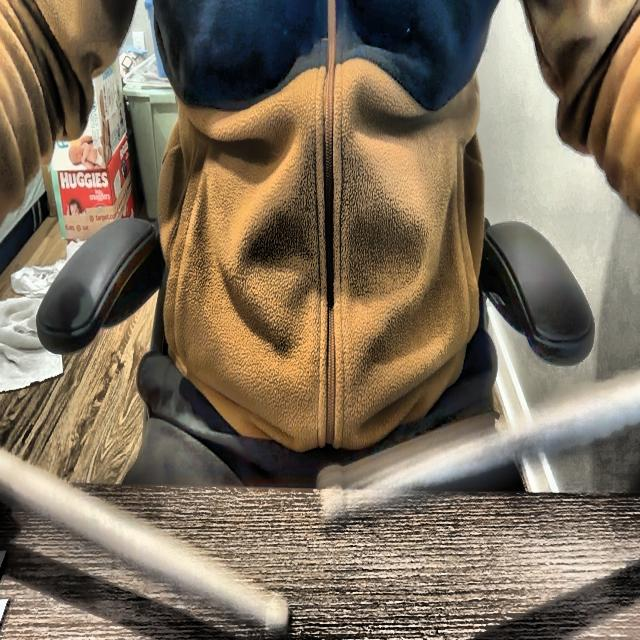Drumstick-Heads: (316, 464, 348, 530), (264, 585, 294, 640)
